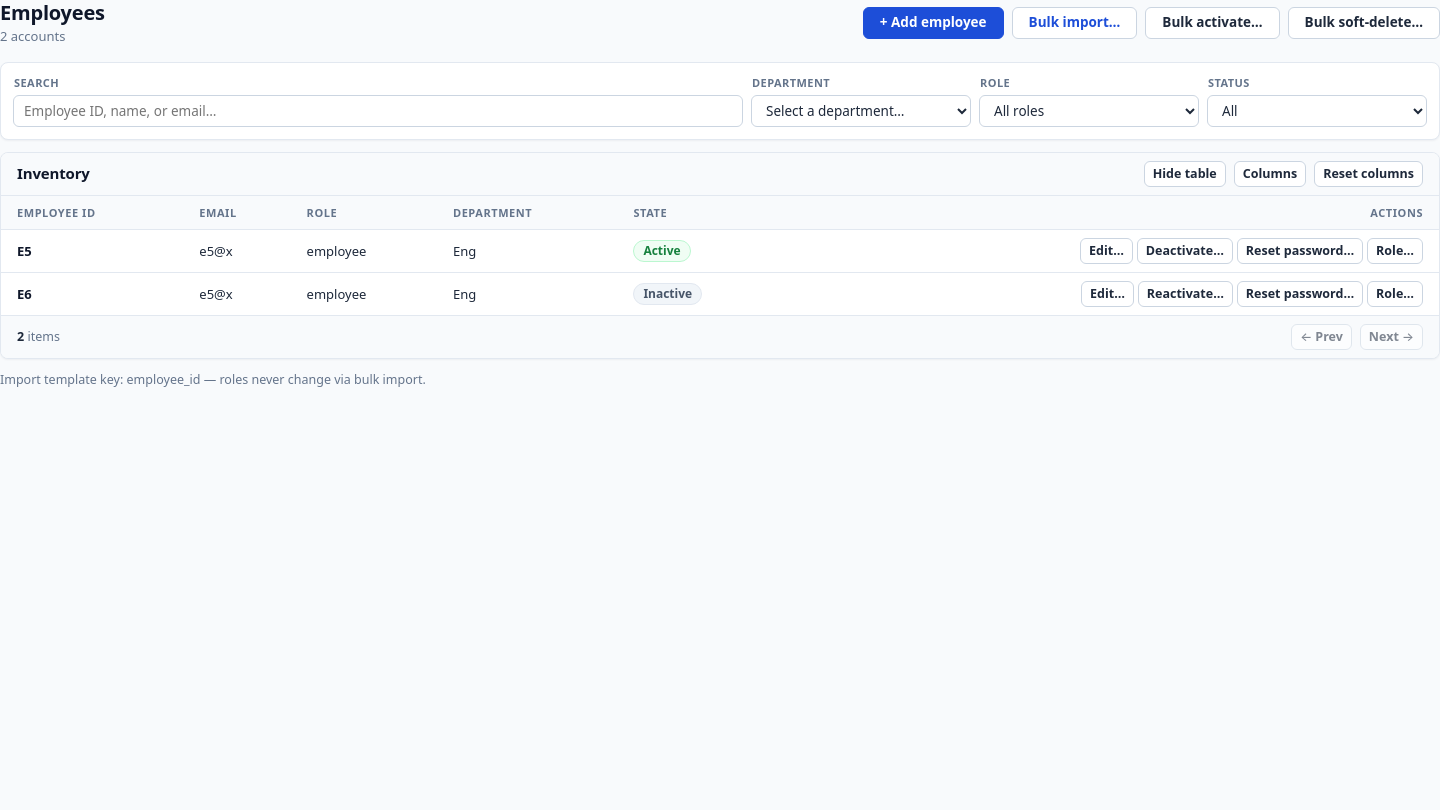
Test case: Users row actions › opens the reset password modal and submits a new password
Expected: the link "E5" is shown, [17,242,32,260]
Click the 1st button "Reset password…" at (1300, 251), box [1237,238,1363,264]
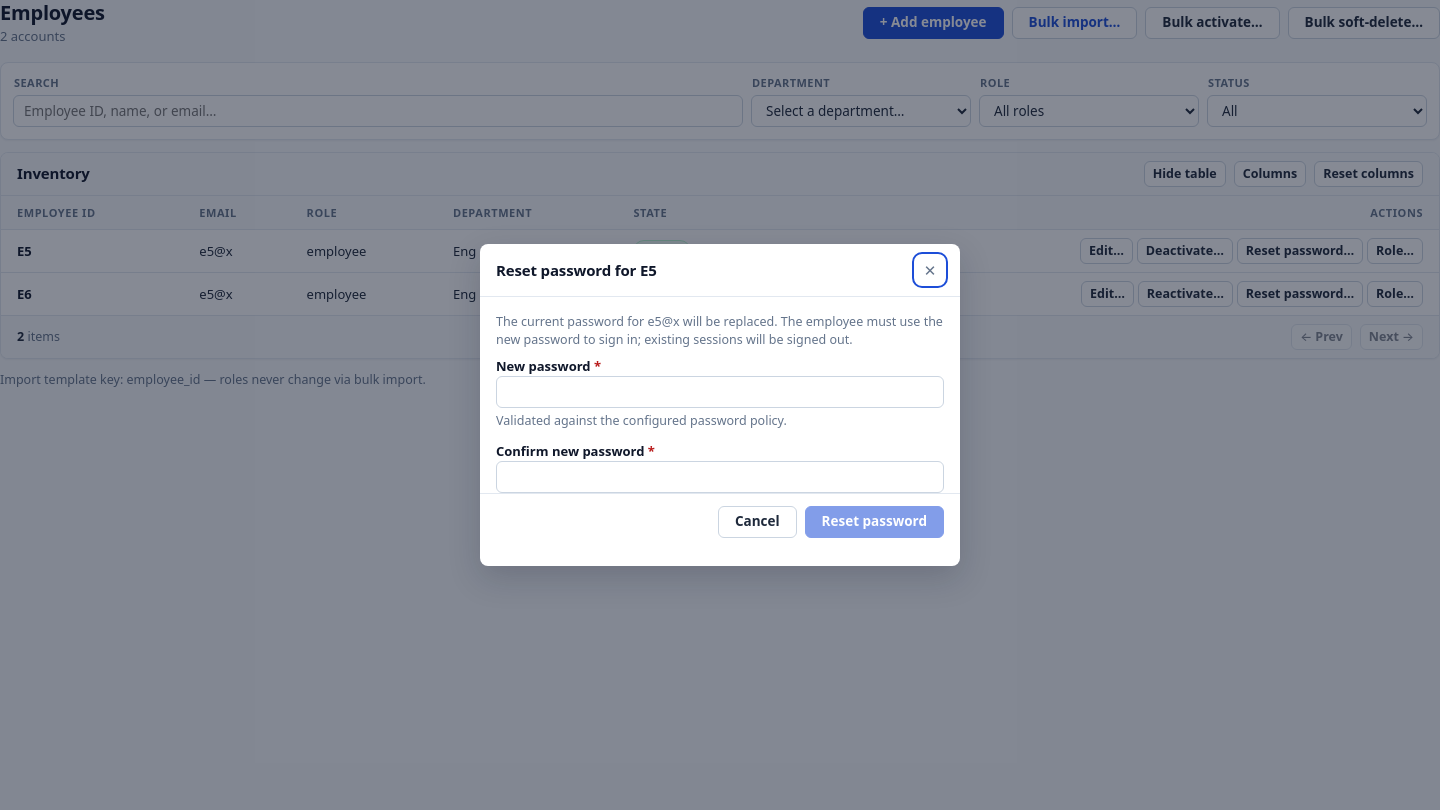
Now the heading "Reset password for E5" is shown, box [496,261,657,279]
Now the button "Reset password" is disabled, box [805,506,944,538]
Type "brand-new-pass-99" into the password field named "New password for E5" at (720, 392), box [496,376,944,408]
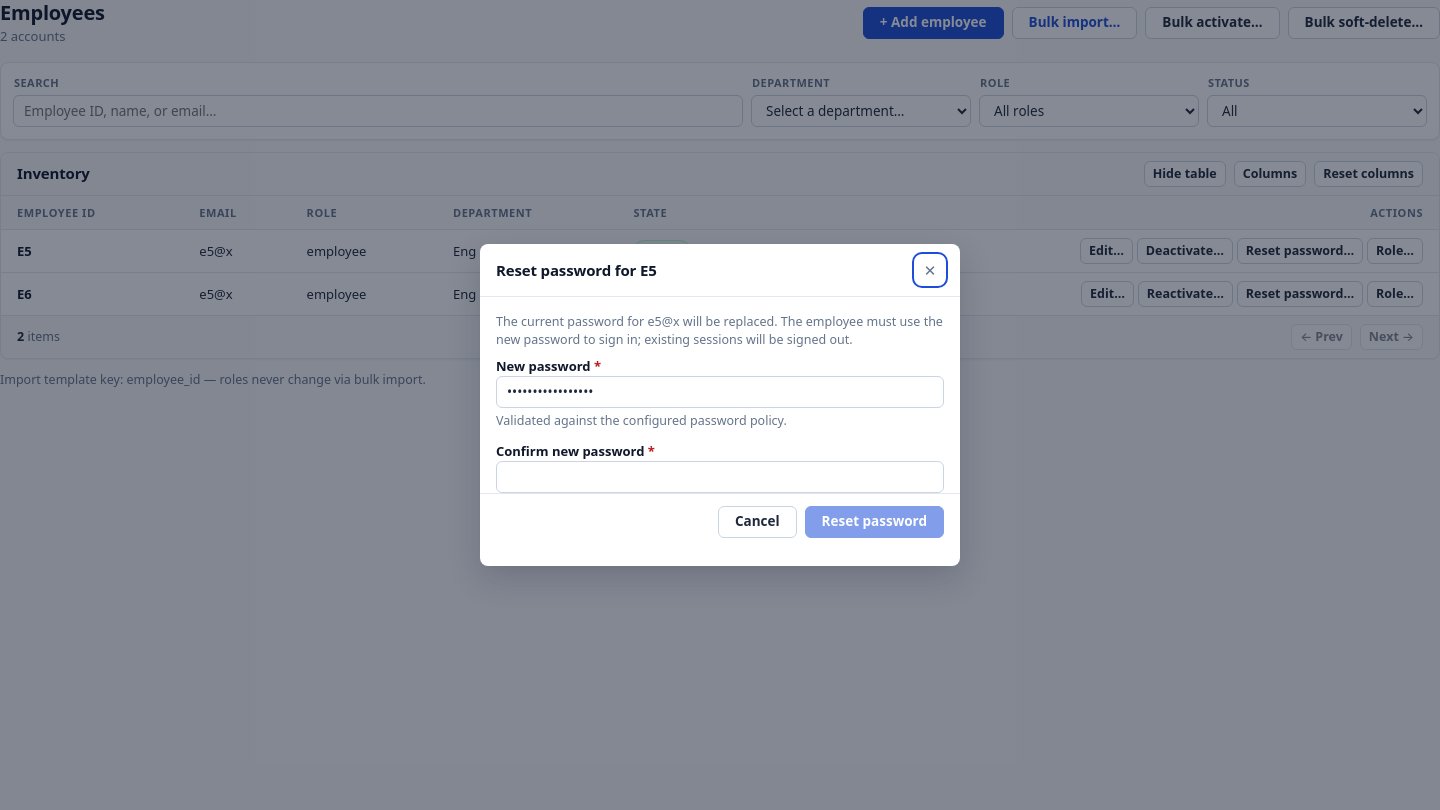
Type "brand-new-pass-99" into the password field named "Confirm new password for E5" at (720, 477), box [496,461,944,493]
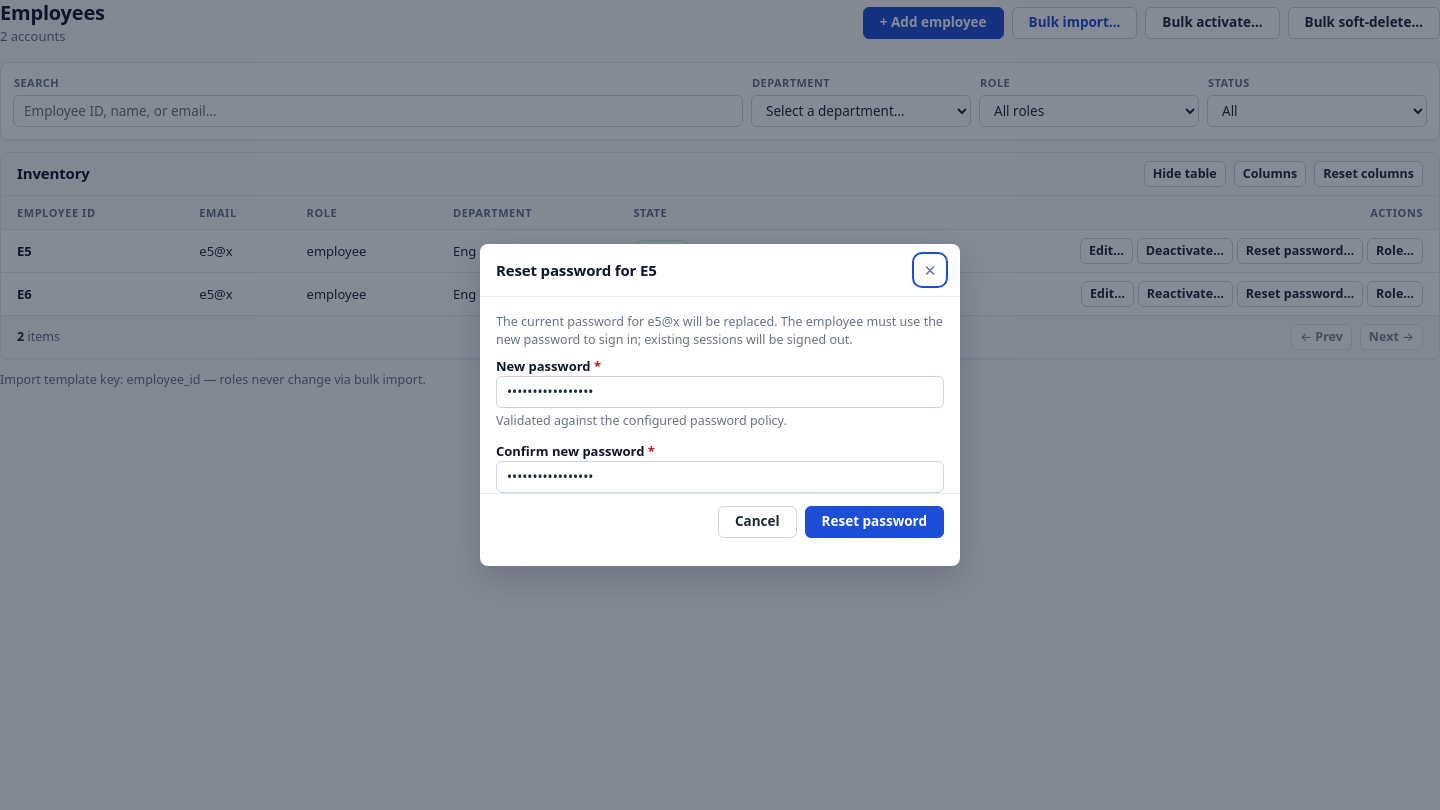
Now the button "Reset password" is enabled
Click the button "Reset password" at (874, 522), box [805,506,944,538]
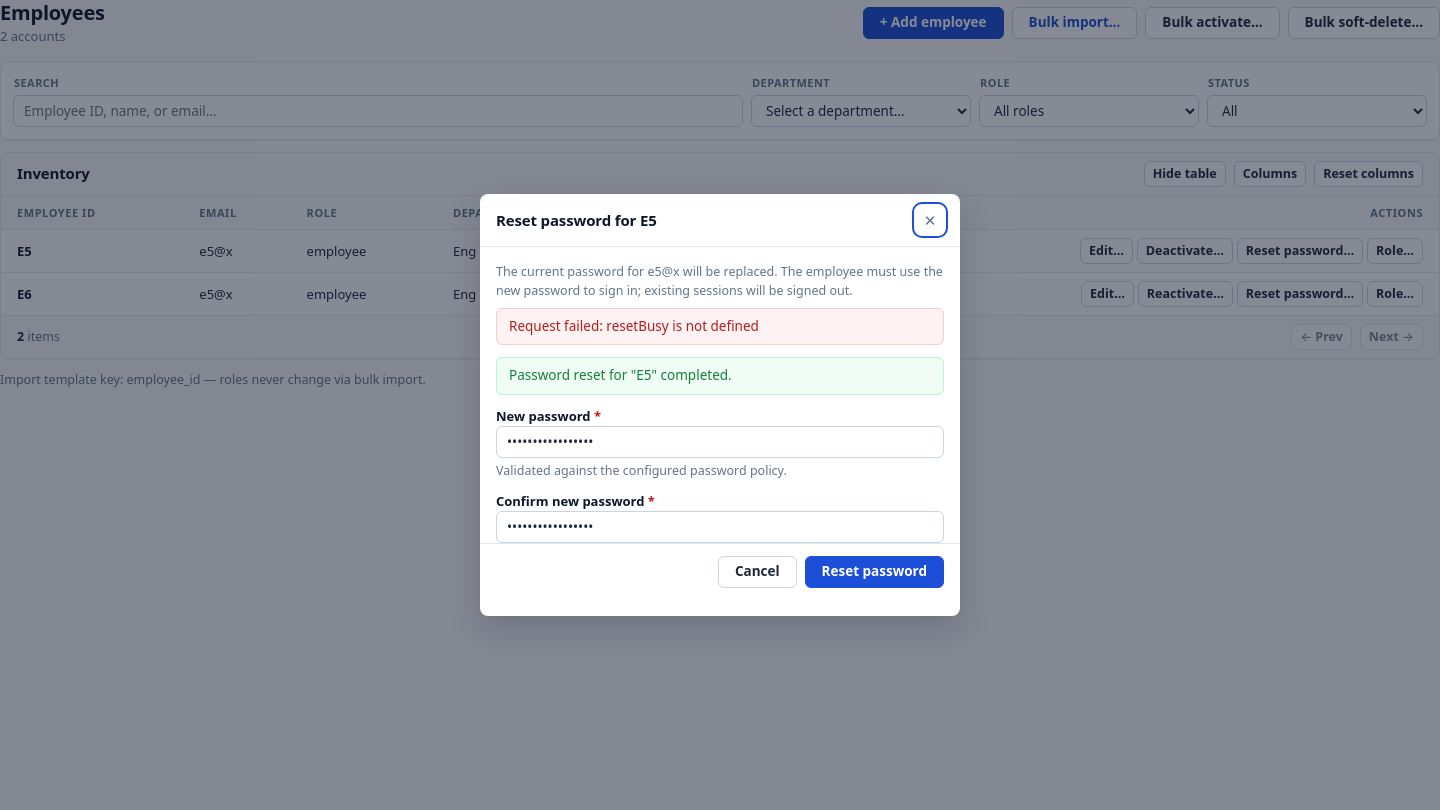
Now the text "Password reset for \"E5\" completed." is shown, box [496,357,944,395]
